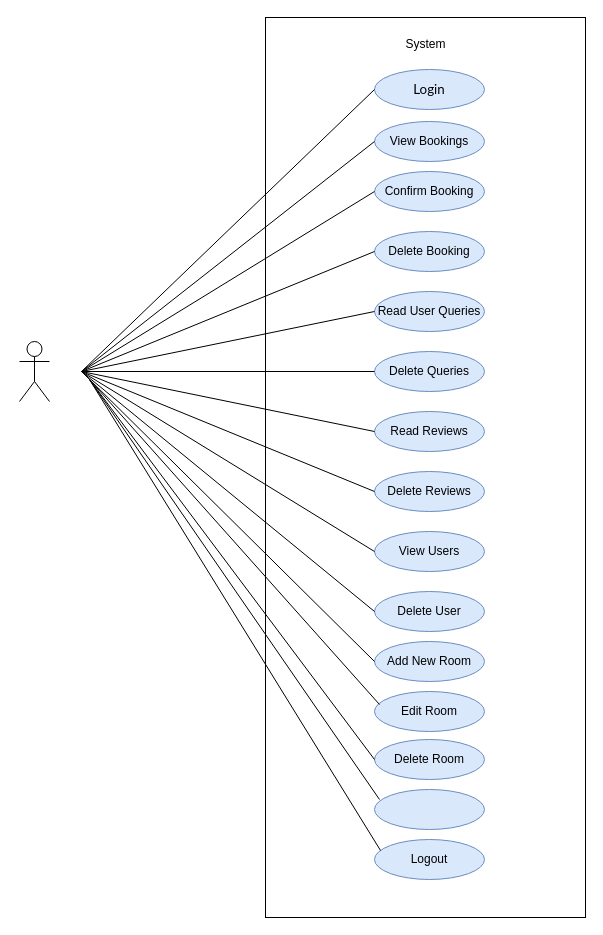
The diagram is 603 pixels wide and 935 high, and some of its shapes have lost their labels. Each missing label, with the centre of its shape:
"Admin" belongs at [34,371].
"Shut down website" belongs at [429,809].
